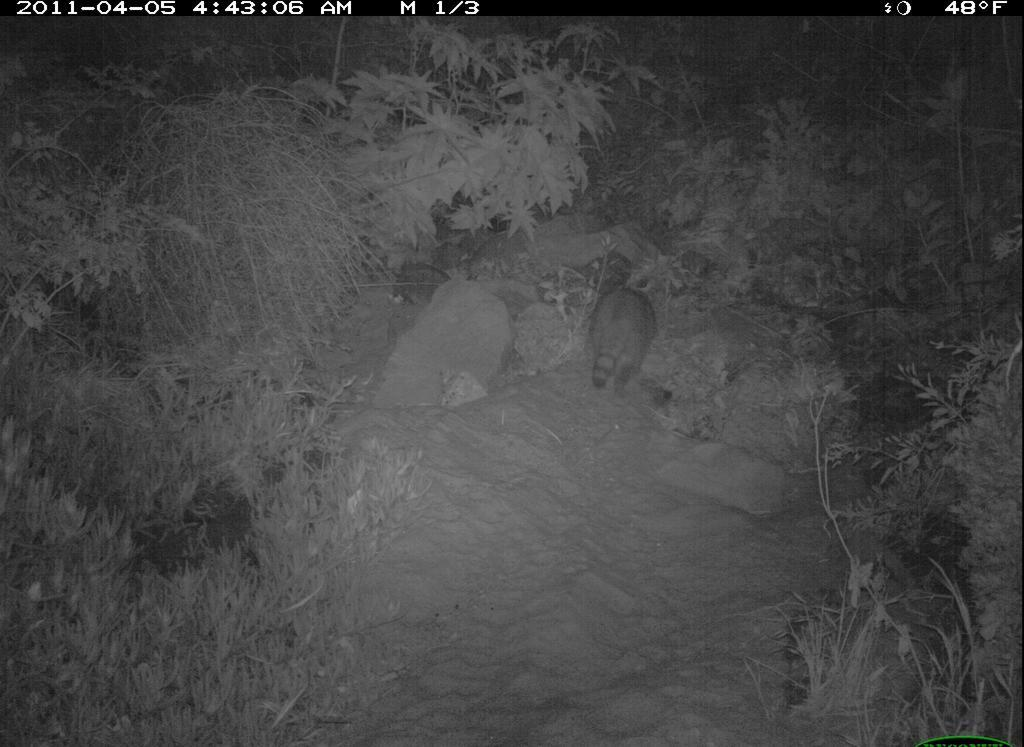raccoon: (573, 273, 665, 406)
